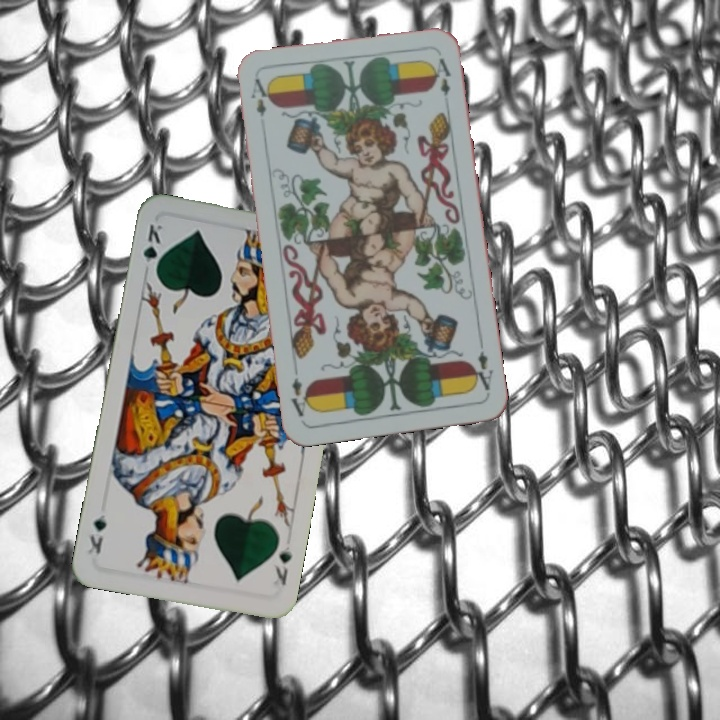EA: (468, 346, 496, 393), (247, 74, 271, 119)
GK: (139, 220, 165, 278), (270, 542, 294, 588)
